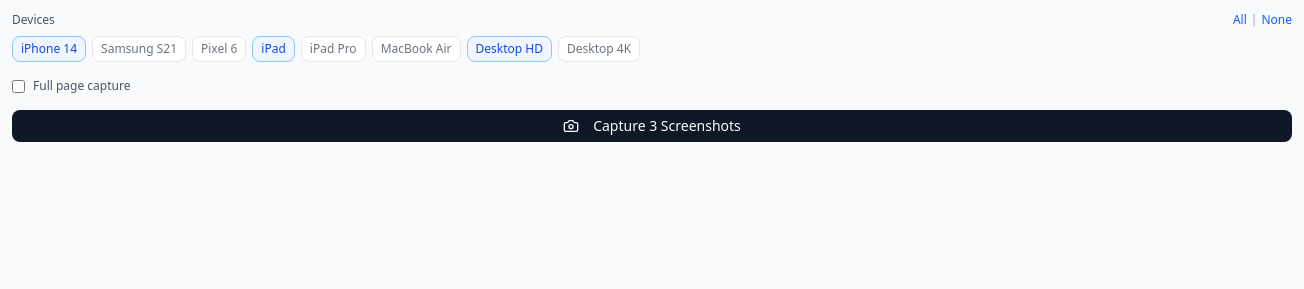
Screenshot capture › capturing with regular URL › should display results after successful capture
Click the button "Capture 3 Screenshots".
click(652, 126)  # box left=12, top=110, right=1292, bottom=142
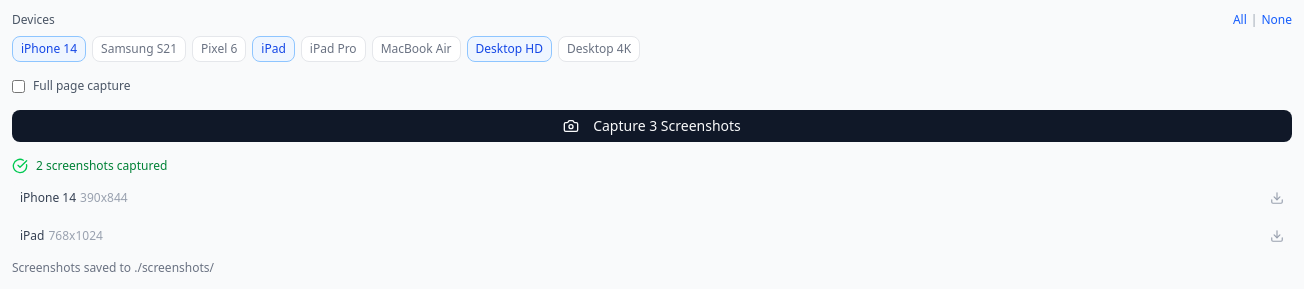
Check: the text "2 screenshots captured" is shown, box left=36, top=158, right=167, bottom=174
